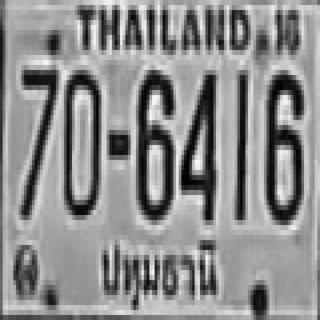N00: (61, 65, 99, 215)
N01: (233, 68, 247, 218), (232, 68, 245, 218)
N04: (179, 65, 213, 220)
N06: (264, 65, 301, 220), (136, 65, 173, 215)
N07: (19, 65, 56, 215)
P38: (97, 237, 223, 316)
